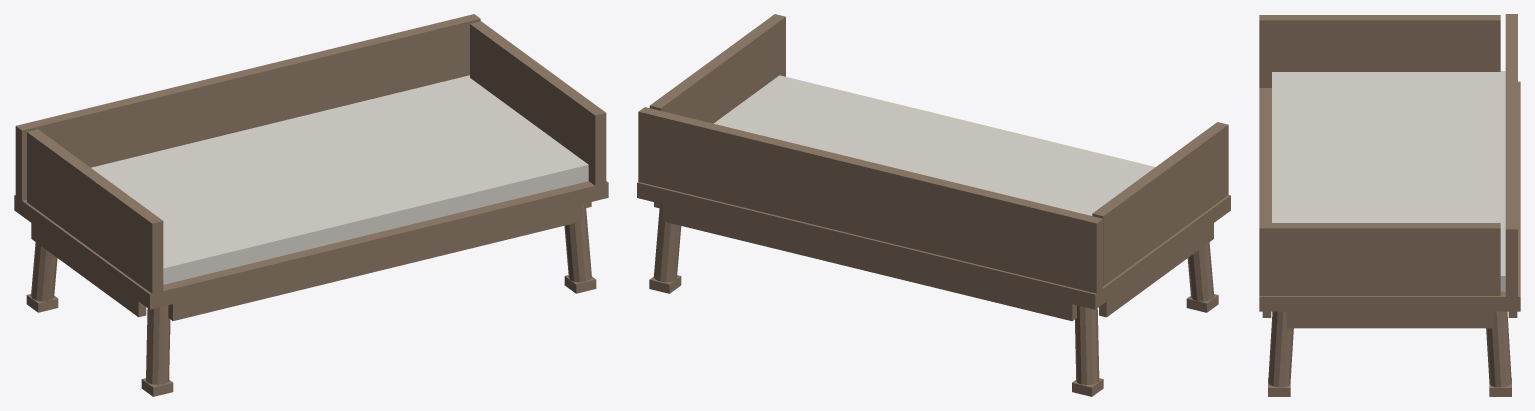
File: prop_ming_daybed.glb
3 views of the same model, side by side, from view 1: azimuth 30°, elevation 25°; view 2: azimuth 150°, elevation 25°; view 3: azimuth 270°, elevation 25° (orthographic). The views are drawn at different scales.
Visible parts, largest first — view 1: prop_ming_daybed/daybed_cushion_00001, prop_ming_daybed/daybed_back_rail_00002, prop_ming_daybed/daybed_frame_00000, prop_ming_daybed/daybed_side_rail_00004, prop_ming_daybed/daybed_side_rail_00006, prop_ming_daybed/daybed_apron_long_00016, prop_ming_daybed/daybed_apron_short_00018, prop_ming_daybed/daybed_leg_00008, prop_ming_daybed/daybed_leg_00012, prop_ming_daybed/daybed_leg_00010; view 2: prop_ming_daybed/daybed_back_rail_00002, prop_ming_daybed/daybed_cushion_00001, prop_ming_daybed/daybed_side_rail_00004, prop_ming_daybed/daybed_frame_00000, prop_ming_daybed/daybed_apron_long_00017, prop_ming_daybed/daybed_side_rail_00006, prop_ming_daybed/daybed_apron_short_00018, prop_ming_daybed/daybed_leg_00010, prop_ming_daybed/daybed_leg_00014, prop_ming_daybed/daybed_leg_00008; view 3: prop_ming_daybed/daybed_cushion_00001, prop_ming_daybed/daybed_side_rail_00006, prop_ming_daybed/daybed_side_rail_00004, prop_ming_daybed/daybed_frame_00000, prop_ming_daybed/daybed_apron_short_00019, prop_ming_daybed/daybed_back_rail_00002, prop_ming_daybed/daybed_leg_00012, prop_ming_daybed/daybed_leg_00014, prop_ming_daybed/daybed_horsehoof_foot_00013, prop_ming_daybed/daybed_horsehoof_foot_00015.
Boxes of the visible parts, left/top/right/bottom form: prop_ming_daybed/daybed_cushion_00001: left=91, top=75, right=588, bottom=284; prop_ming_daybed/daybed_back_rail_00002: left=15, top=14, right=480, bottom=200; prop_ming_daybed/daybed_frame_00000: left=14, top=181, right=608, bottom=309; prop_ming_daybed/daybed_side_rail_00004: left=27, top=129, right=163, bottom=293; prop_ming_daybed/daybed_side_rail_00006: left=470, top=21, right=606, bottom=185; prop_ming_daybed/daybed_apron_long_00016: left=168, top=204, right=582, bottom=320; prop_ming_daybed/daybed_apron_short_00018: left=31, top=223, right=146, bottom=317; prop_ming_daybed/daybed_leg_00008: left=146, top=305, right=170, bottom=384; prop_ming_daybed/daybed_leg_00012: left=564, top=203, right=591, bottom=282; prop_ming_daybed/daybed_leg_00010: left=31, top=242, right=57, bottom=301; prop_ming_daybed/daybed_back_rail_00002: left=638, top=107, right=1102, bottom=293; prop_ming_daybed/daybed_cushion_00001: left=714, top=75, right=1155, bottom=215; prop_ming_daybed/daybed_side_rail_00004: left=1092, top=122, right=1228, bottom=286; prop_ming_daybed/daybed_frame_00000: left=637, top=182, right=1230, bottom=309; prop_ming_daybed/daybed_apron_long_00017: left=663, top=204, right=1076, bottom=321; prop_ming_daybed/daybed_side_rail_00006: left=649, top=14, right=785, bottom=123; prop_ming_daybed/daybed_apron_short_00018: left=1099, top=223, right=1213, bottom=317; prop_ming_daybed/daybed_leg_00010: left=1075, top=305, right=1099, bottom=384; prop_ming_daybed/daybed_leg_00014: left=654, top=203, right=681, bottom=282; prop_ming_daybed/daybed_leg_00008: left=1187, top=242, right=1214, bottom=301; prop_ming_daybed/daybed_cushion_00001: left=1272, top=71, right=1505, bottom=291; prop_ming_daybed/daybed_side_rail_00006: left=1259, top=223, right=1500, bottom=295; prop_ming_daybed/daybed_side_rail_00004: left=1259, top=15, right=1500, bottom=87; prop_ming_daybed/daybed_frame_00000: left=1259, top=81, right=1520, bottom=311; prop_ming_daybed/daybed_apron_short_00019: left=1286, top=311, right=1493, bottom=328; prop_ming_daybed/daybed_back_rail_00002: left=1505, top=14, right=1517, bottom=296; prop_ming_daybed/daybed_leg_00012: left=1268, top=311, right=1293, bottom=387; prop_ming_daybed/daybed_leg_00014: left=1486, top=311, right=1511, bottom=387; prop_ming_daybed/daybed_horsehoof_foot_00013: left=1268, top=379, right=1290, bottom=396; prop_ming_daybed/daybed_horsehoof_foot_00015: left=1489, top=379, right=1511, bottom=396.
Bounding box in the file's own units: 2.05 × 0.76 × 1.05.
